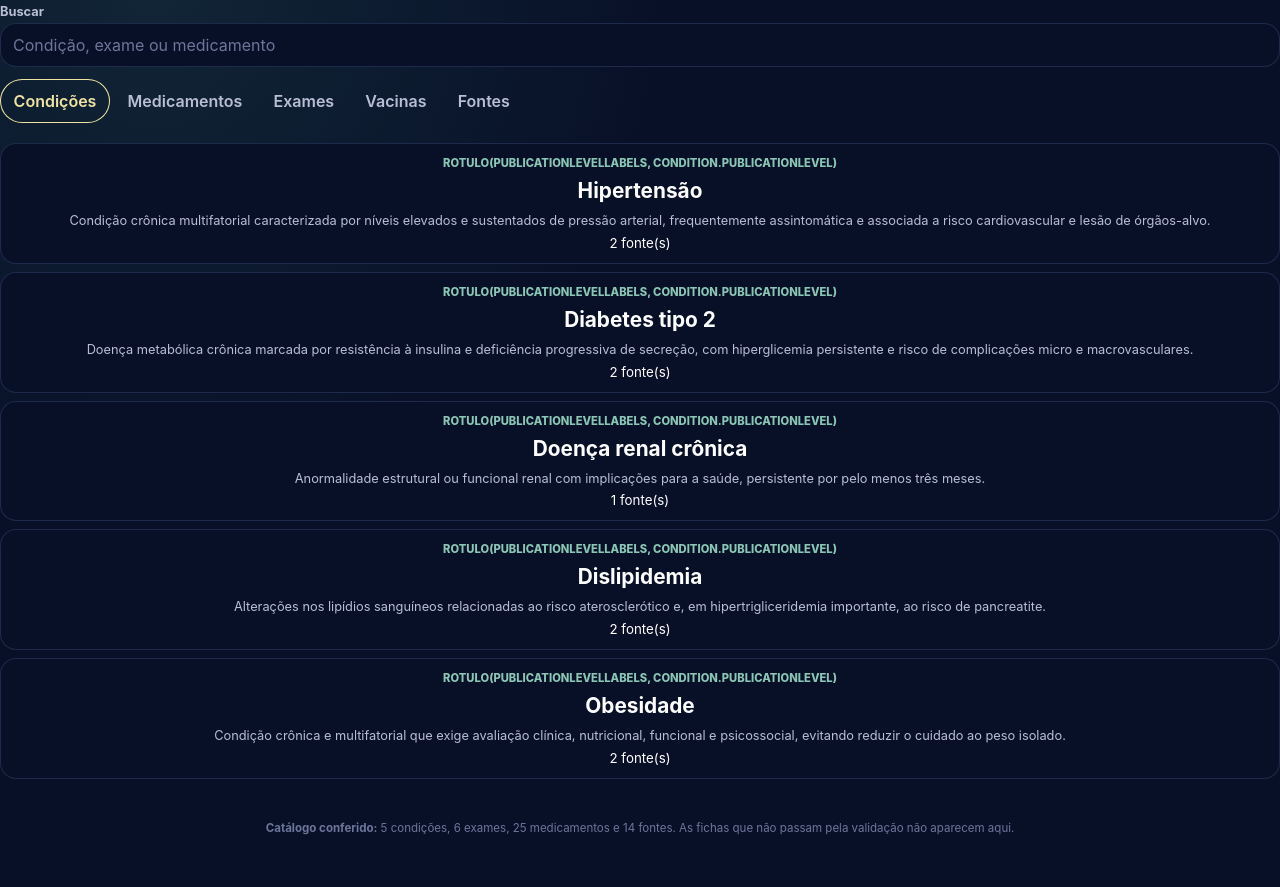
Test: Vacinas dentro de Clínica › abre o calendário ao tocar na aba
The width and height of the screenshot is (1280, 887).
Click the button "Vacinas" at (396, 101), box [352,79,440,123]
(page scrolled)
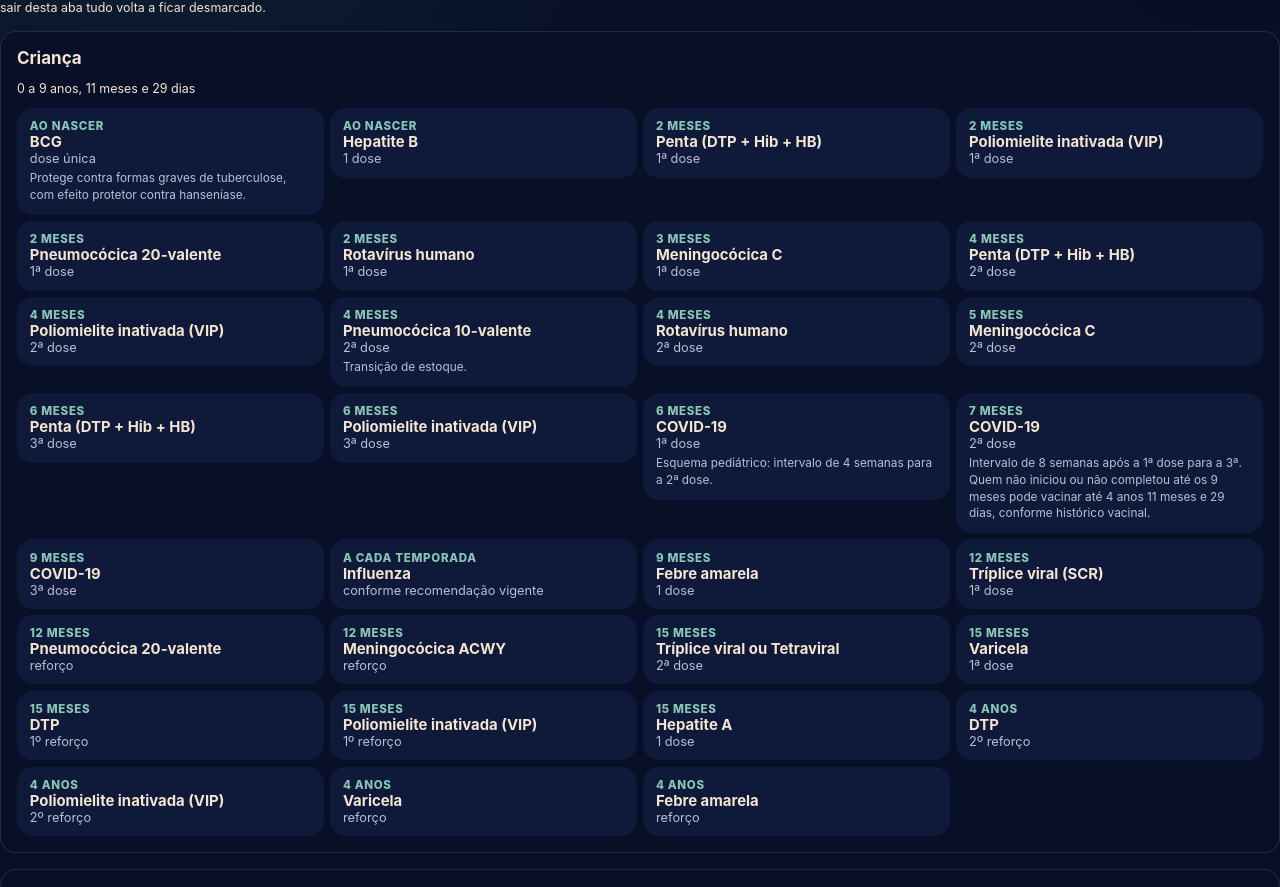
Expected: the element "Criança" is shown
